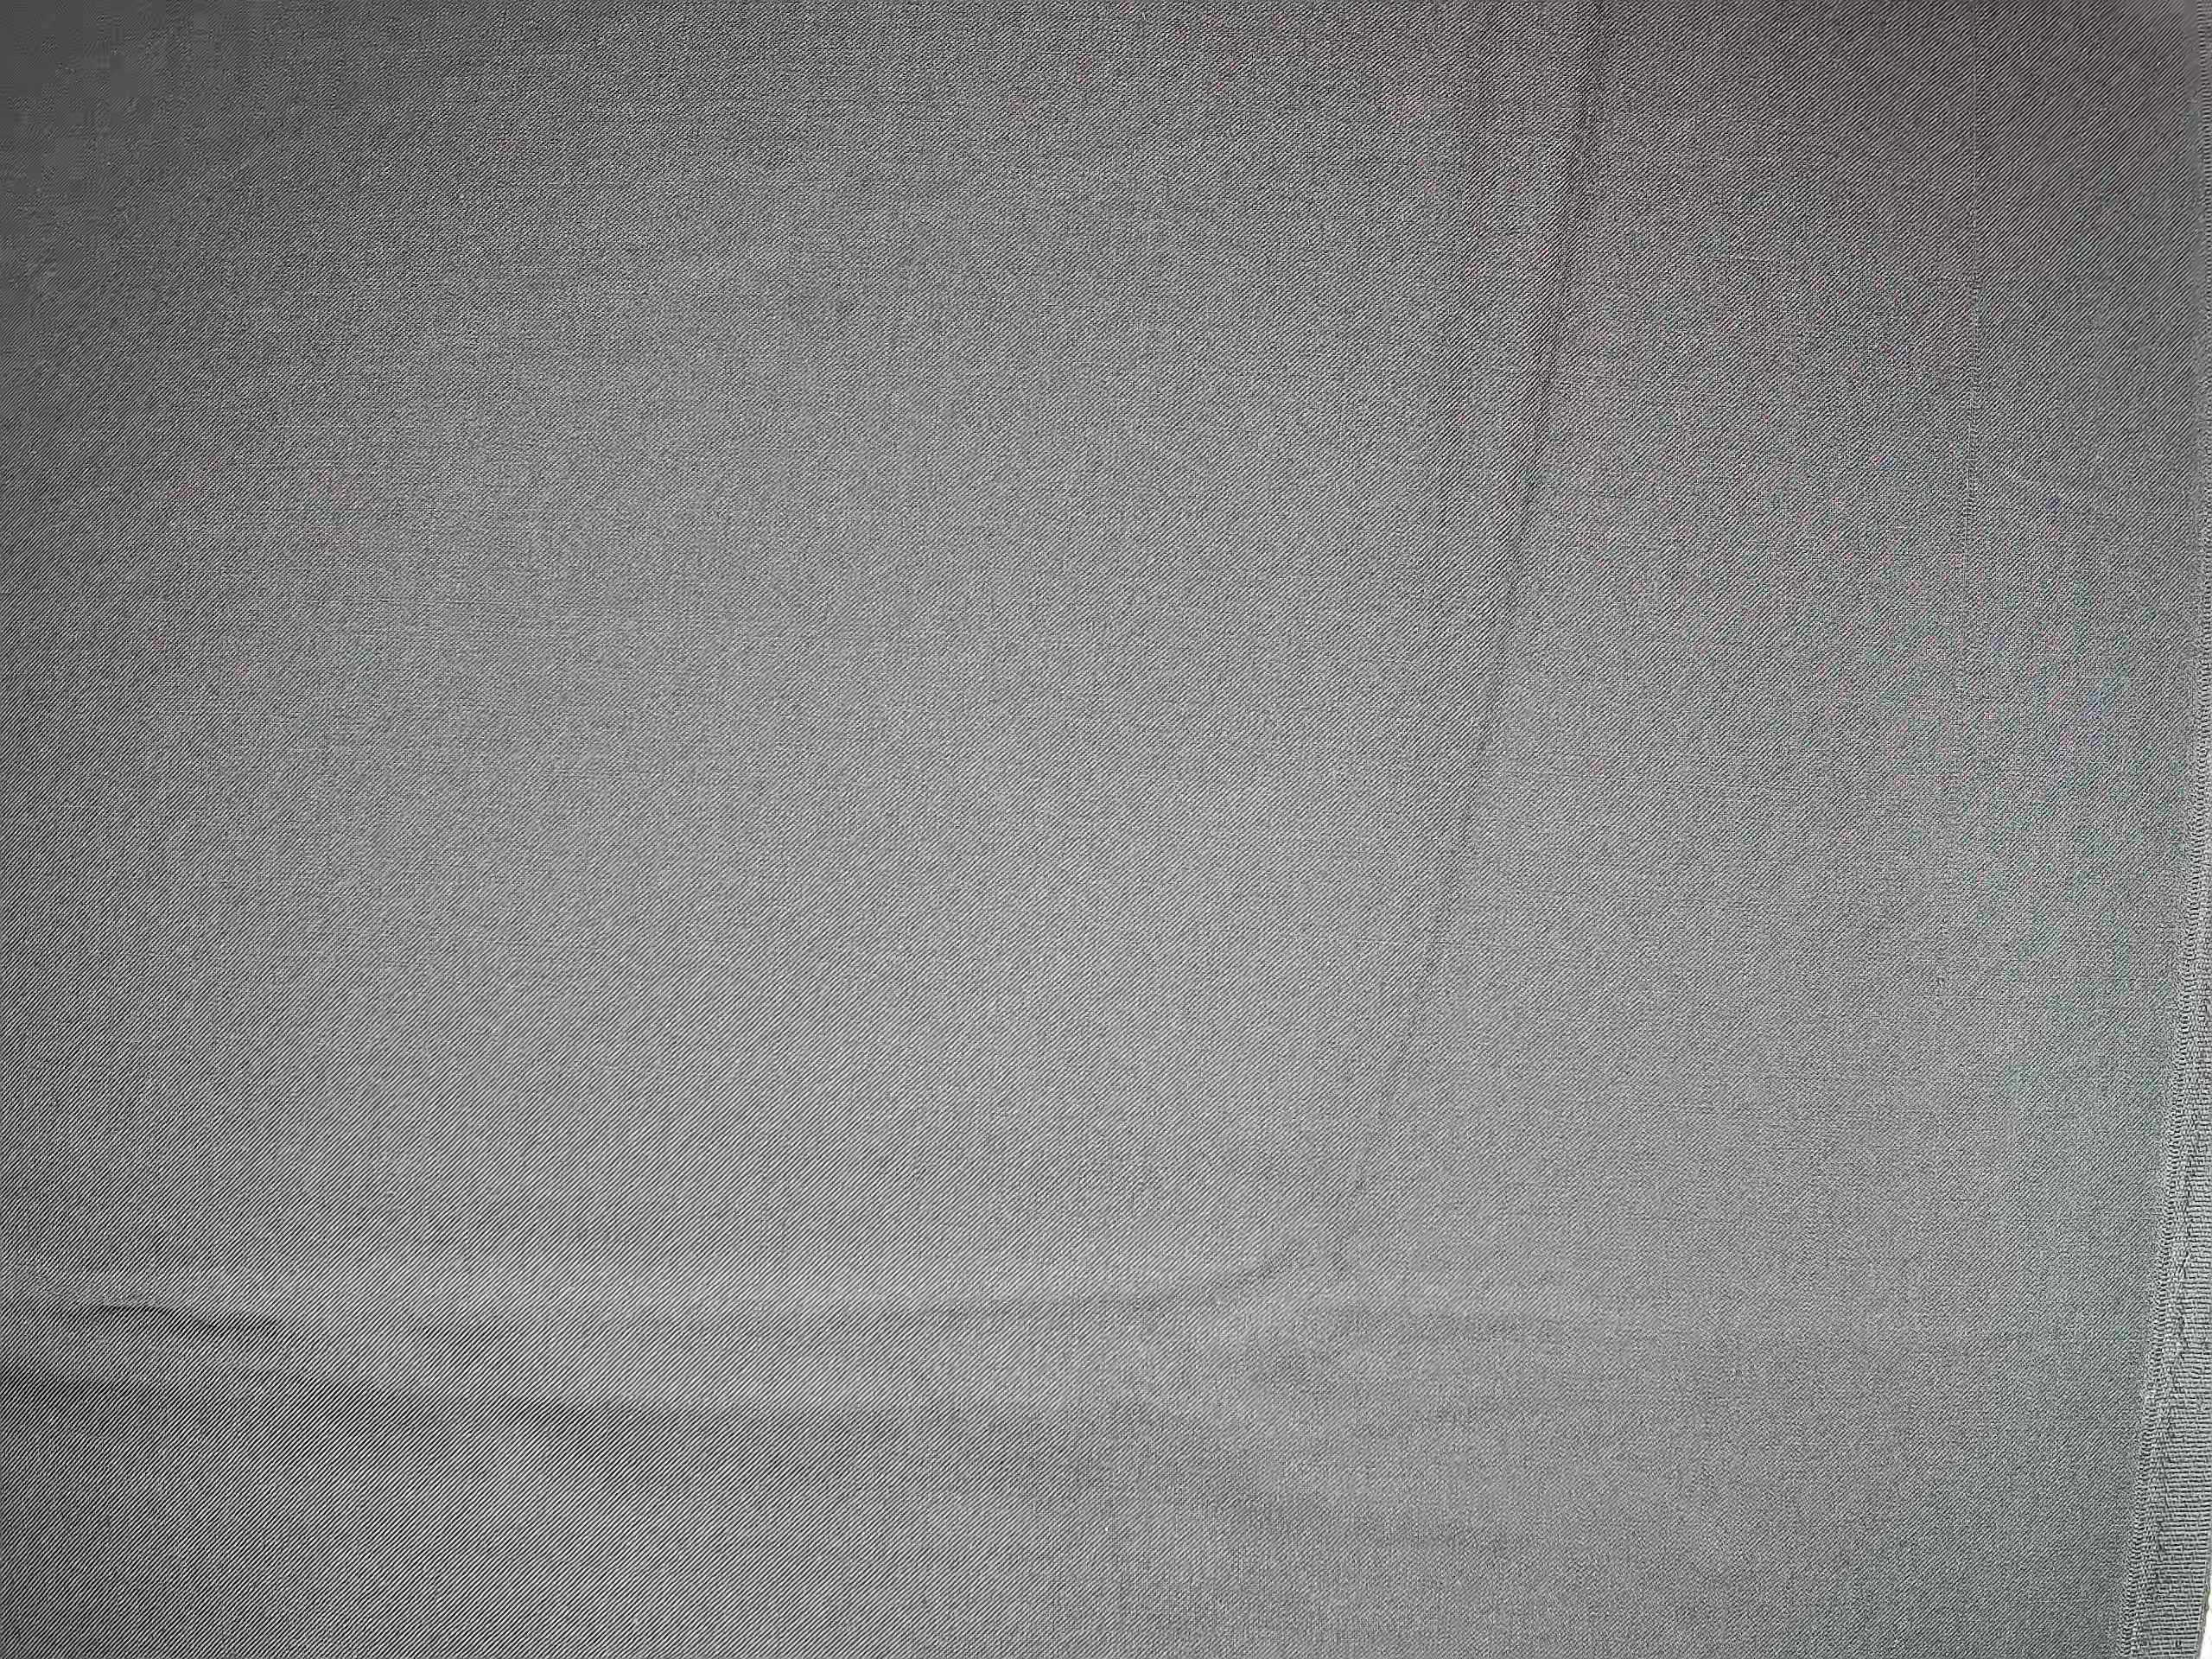hanging-warp: (1932, 5, 1994, 1011)
